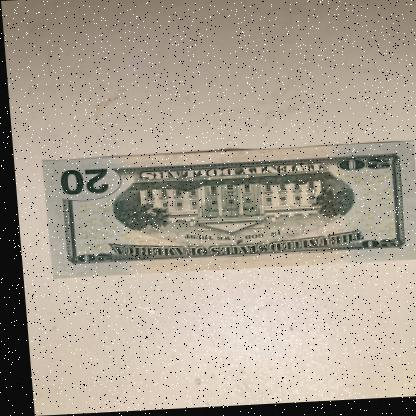twenty-back: (38, 143, 416, 280)
